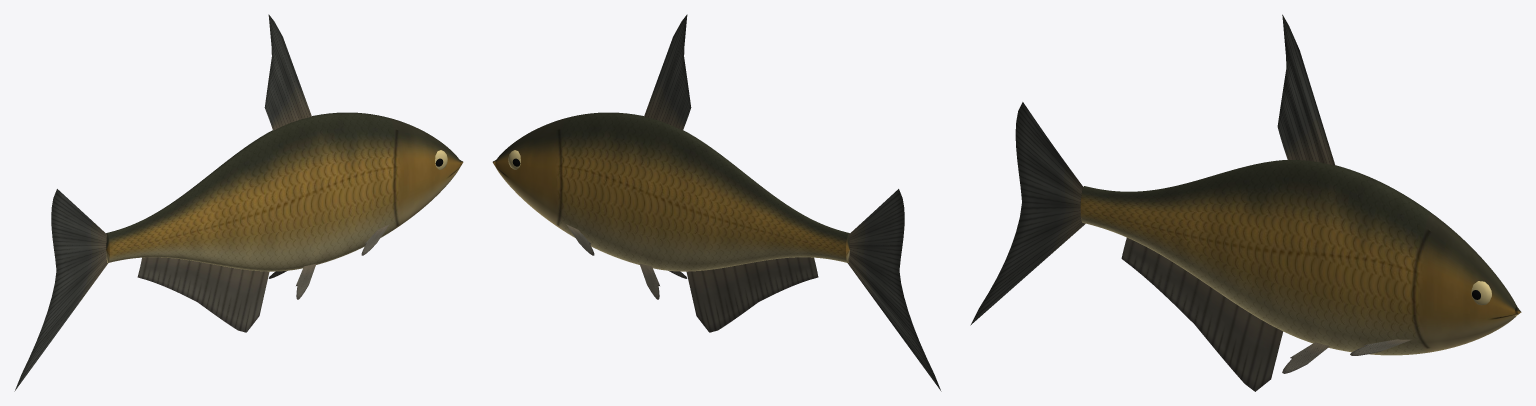
File: fish_bream.gltf
3 renders of one model, left to right at view 1: azimuth 30°, elevation 25°; view 2: azimuth 150°, elevation 25°; view 3: azimuth 330°, elevation 25°, orthographic. The views are drawn at different scales.
Parts seen in each view (by area): view 1: fish_bream; view 2: fish_bream; view 3: fish_bream.
Part boxes in pixels (x1,y1,x2,y2): fish_bream: (14,14,463,391); fish_bream: (492,14,941,391); fish_bream: (970,14,1521,391).
Size of the model in its own units: 0.4364 by 0.2933 by 0.064.
6 materials, 4 textured.
